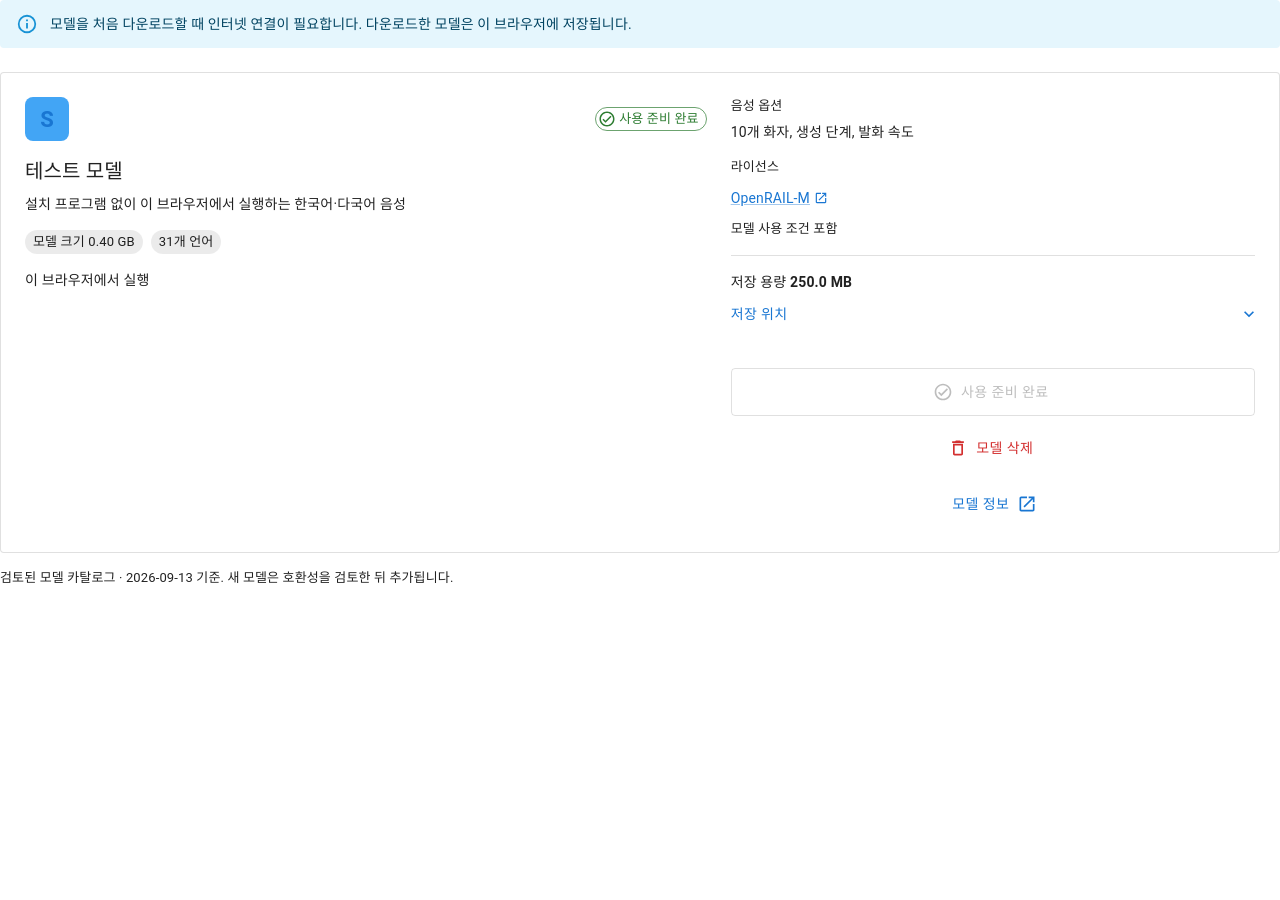
Test case: requires confirmation, describes preserved files, and cancels without deleting
Click the button "모델 삭제" at (993, 448), box x1=731 y1=424 x2=1255 y2=472
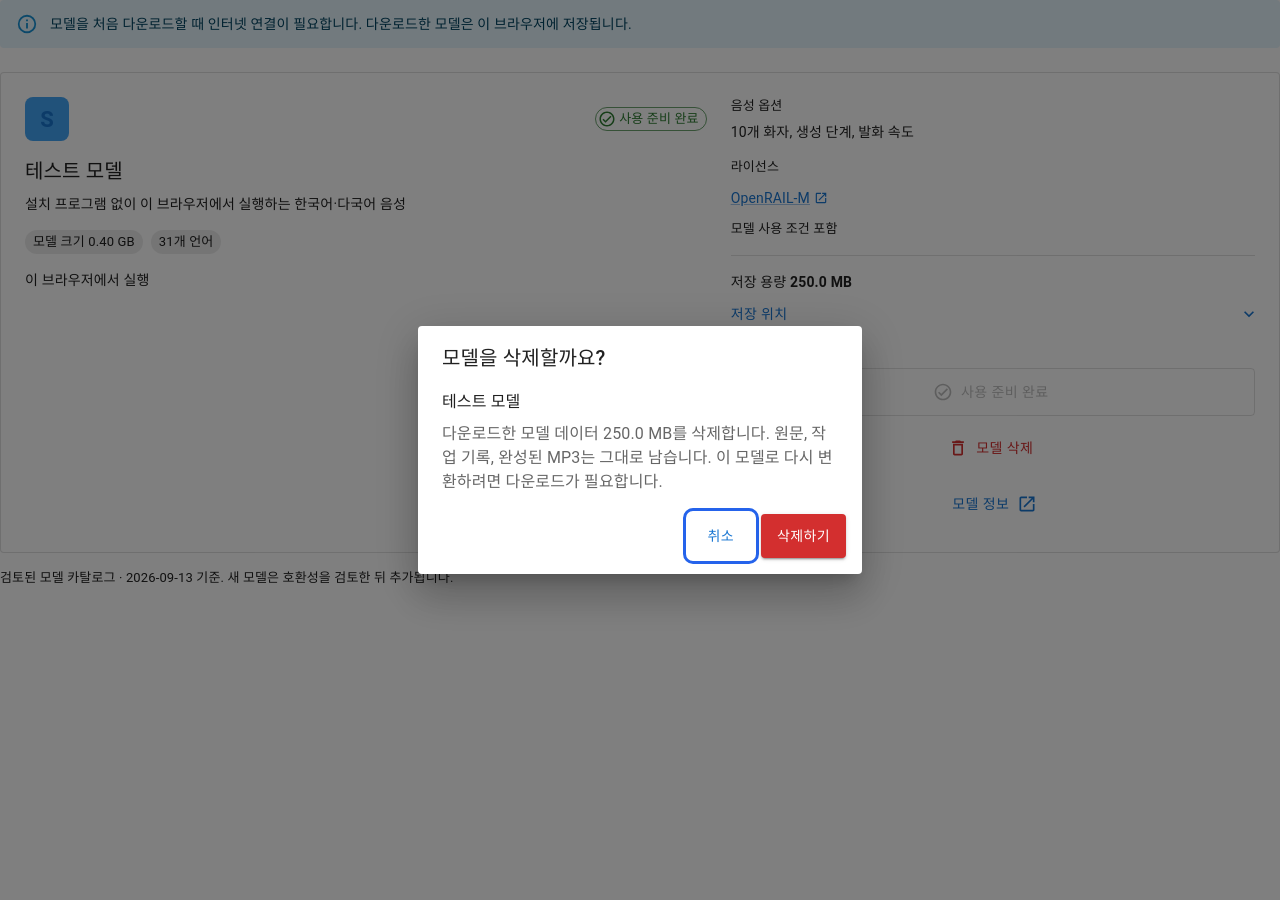
Expected: the dialog shows "250.0 MB", x1=599 y1=424 x2=672 y2=443
Expected: the dialog shows "원문, 작업 기록, 완성된 MP3는 그대로 남습니다", x1=442 y1=424 x2=832 y2=491
Expected: the dialog shows "다시 변환하려면 다운로드가 필요합니다", x1=442 y1=424 x2=832 y2=491
Click the button "취소" at (721, 536), box x1=689 y1=514 x2=753 y2=558
Wait 400 ms
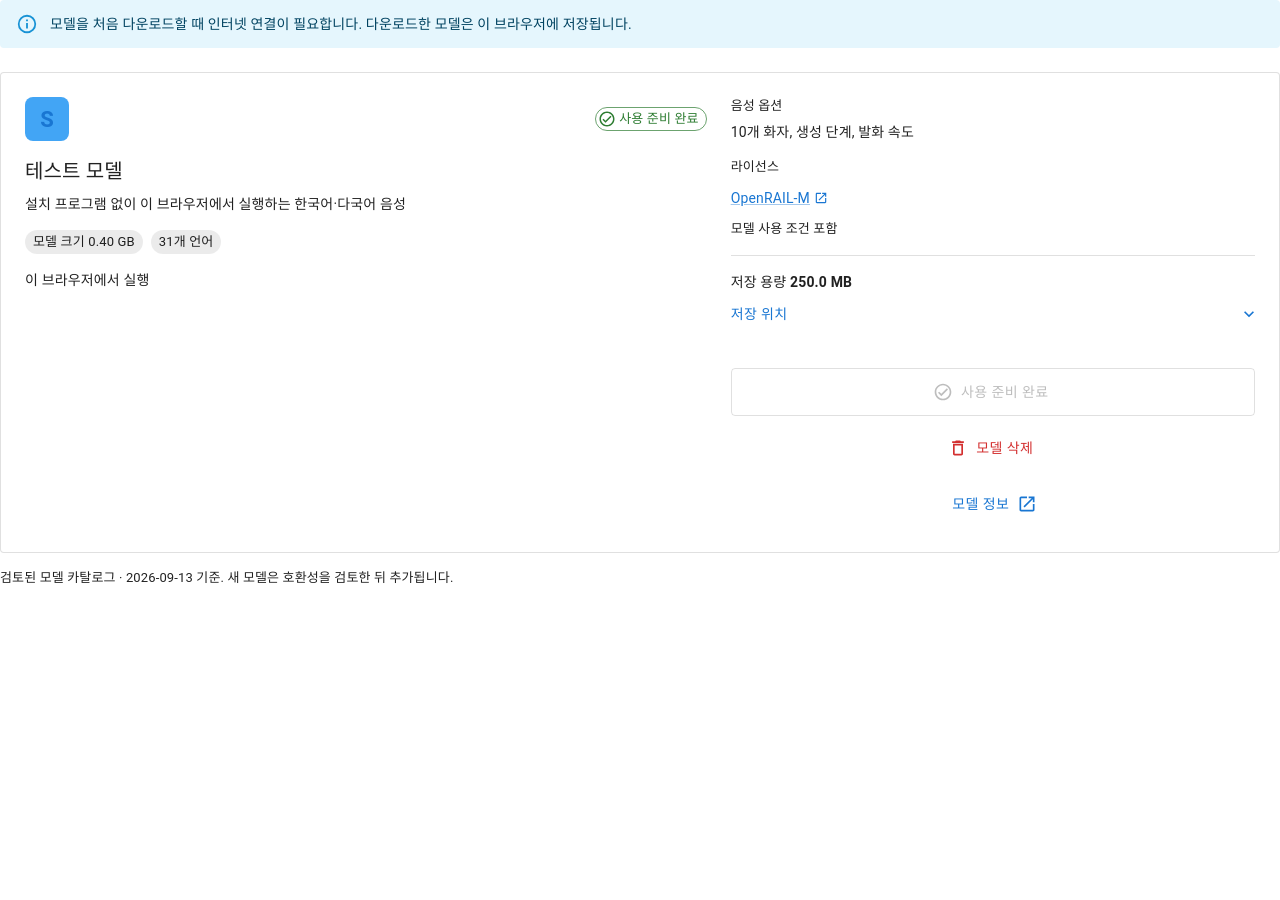
Expected: the dialog is gone
